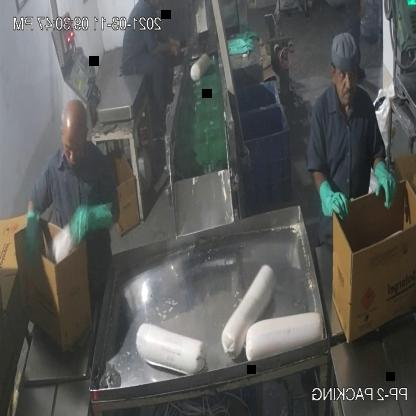glove: (70, 200, 118, 249), (314, 172, 348, 230), (22, 204, 42, 270)
no_glove: (147, 36, 180, 66)
